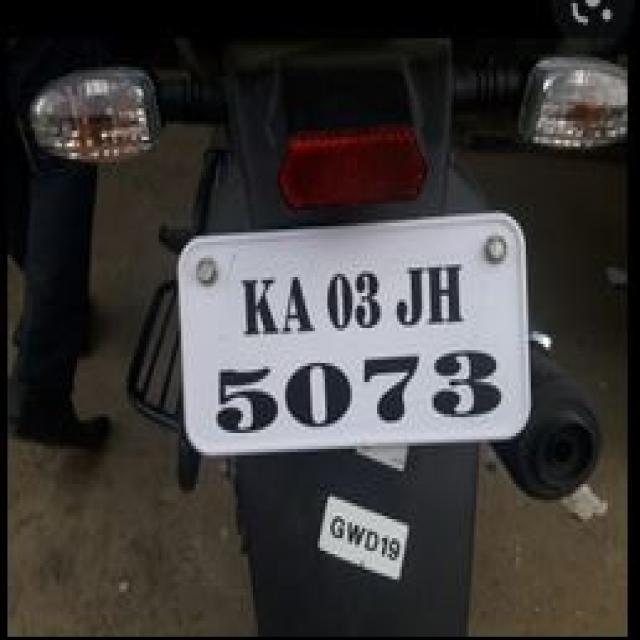license_plate: (174, 207, 533, 455)
